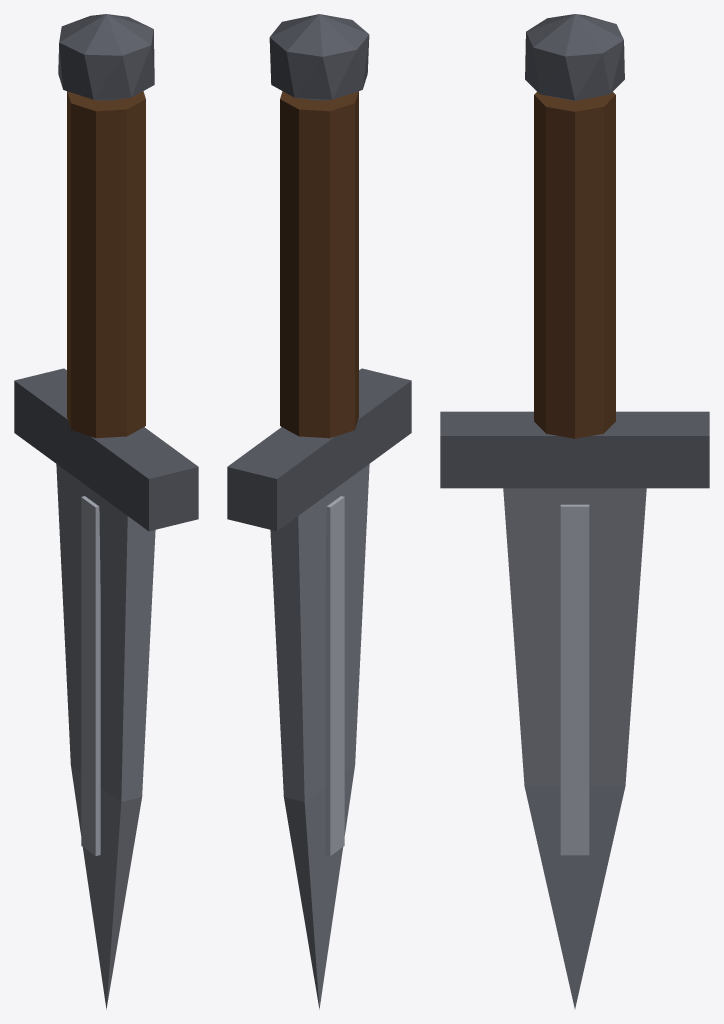
File: held_iron_dagger.glb
3 views of the same model, side by side, from view 1: azimuth 30°, elevation 25°; view 2: azimuth 150°, elevation 25°; view 3: azimuth 270°, elevation 25° (orthographic).
Parts seen in each view (by area): view 1: held_iron_dagger; view 2: held_iron_dagger; view 3: held_iron_dagger.
Part boxes in pixels (<box>): held_iron_dagger: <box>14,14,198,1009</box>; held_iron_dagger: <box>227,14,411,1009</box>; held_iron_dagger: <box>440,14,709,1008</box>.
Size of the model in its own units: 0.0416 by 0.457 by 0.112.
